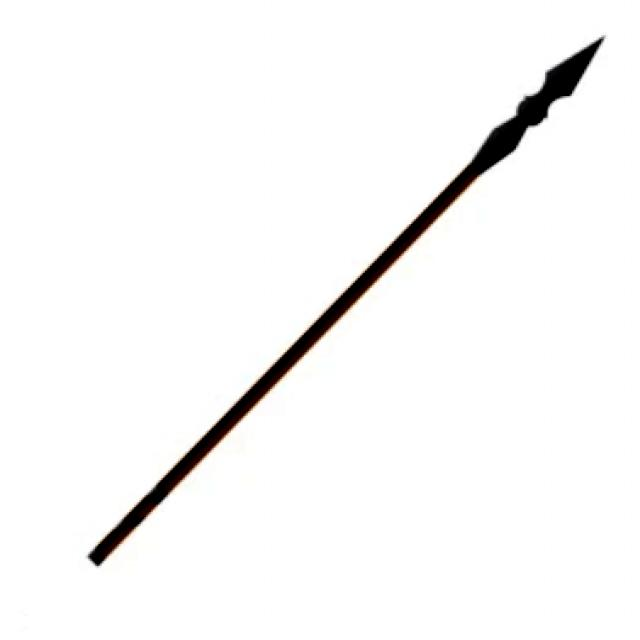spear: (69, 14, 615, 587)
